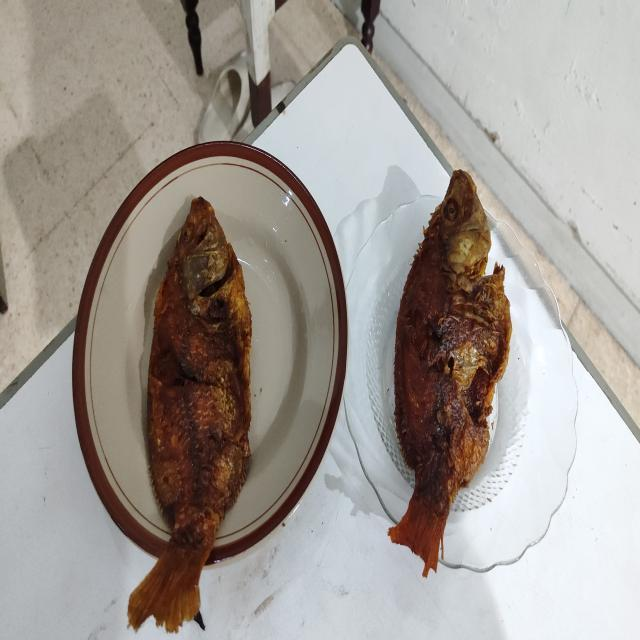ikan_mujair: (128, 197, 252, 632), (388, 170, 512, 576)
